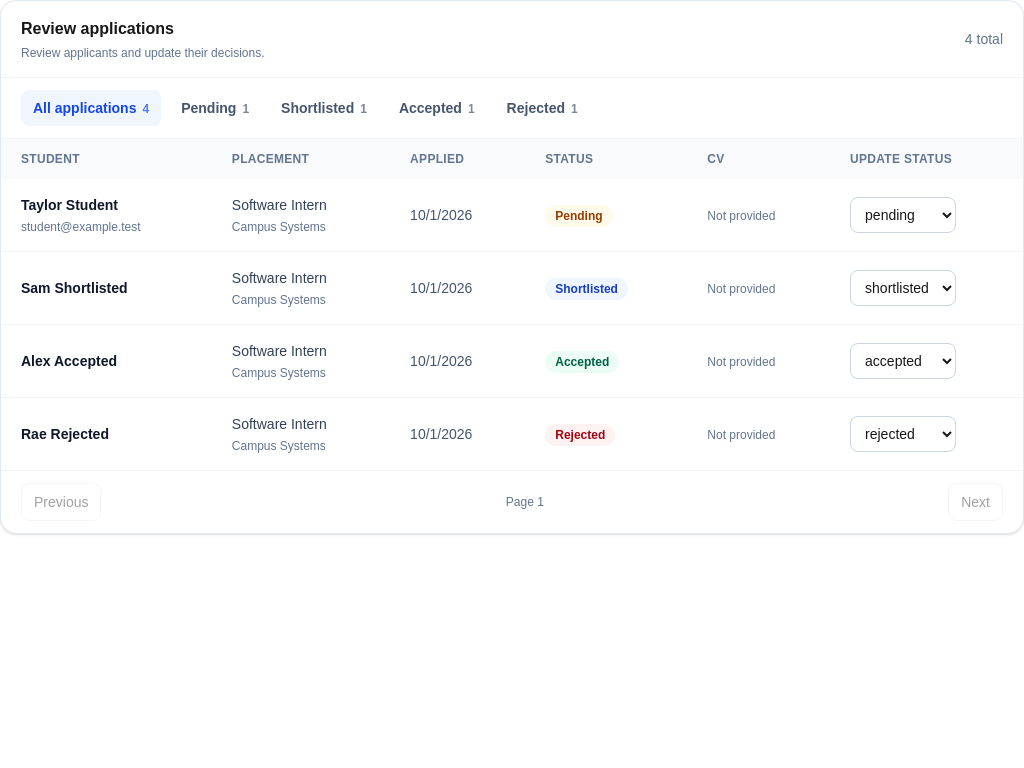
Test case: student and staff workflows › filters staff applications into pending, shortlisted, accepted, and rejected groups
expect the text "Taylor Student" is shown: met, box x1=21 y1=197 x2=118 y2=213
Click the button named "Accepted 1".
click(437, 108)  # box x1=387 y1=90 x2=487 y2=126
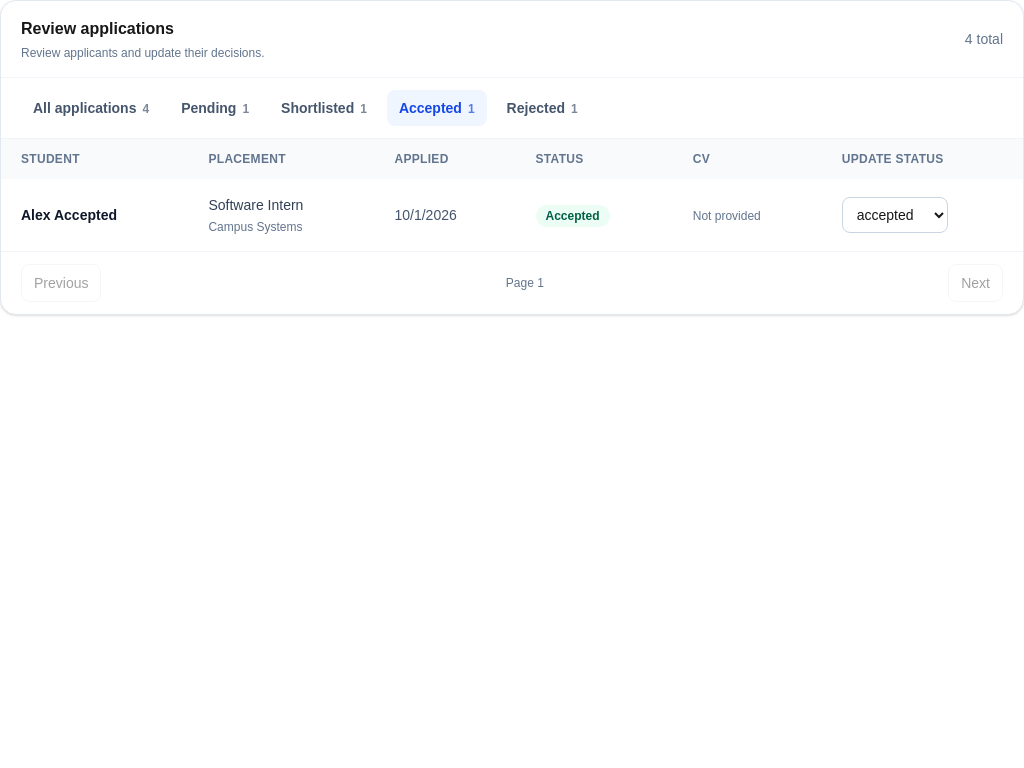
expect the text "Alex Accepted" is shown: met, box x1=21 y1=207 x2=117 y2=223
expect the text "Sam Shortlisted" is gone: met
expect the text "Rae Rejected" is gone: met
